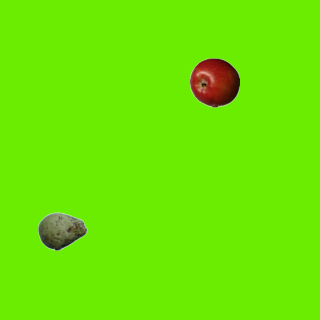Apple Braeburn: (189, 57, 239, 107)
Pear Stone: (37, 206, 87, 256)
